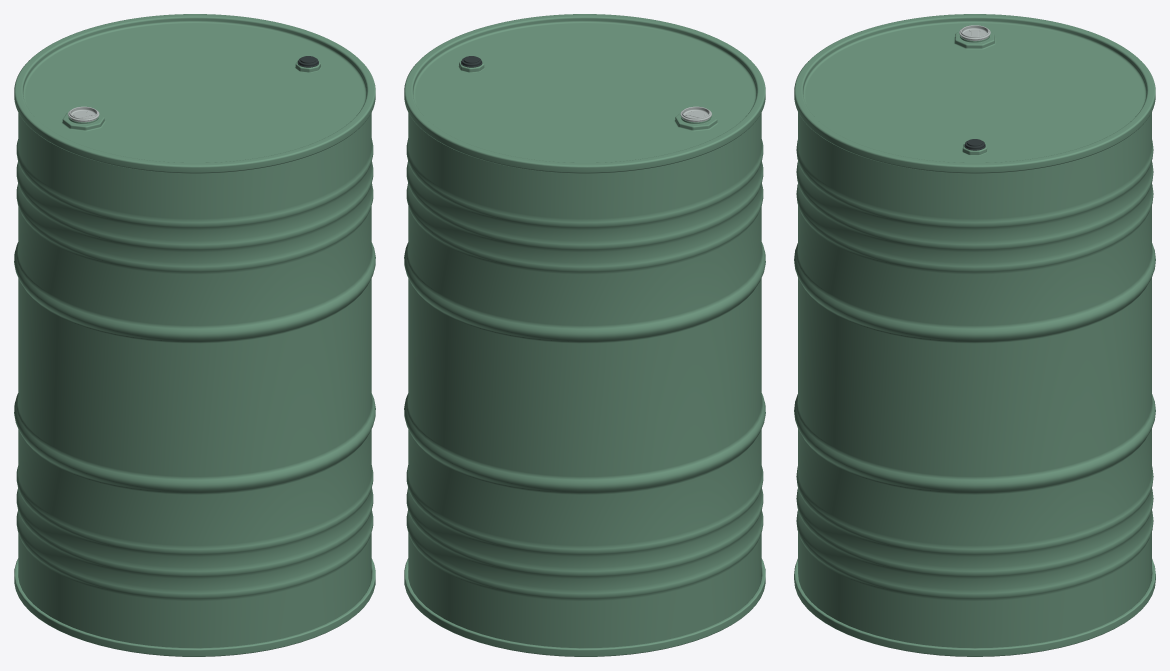
File: waste_recycling_container_c01.glb
3 renders of one model, left to right at view 1: azimuth 30°, elevation 25°; view 2: azimuth 150°, elevation 25°; view 3: azimuth 270°, elevation 25°, orthographic.
Size of the model in its own units: 0.5936 by 0.8968 by 0.5936.
